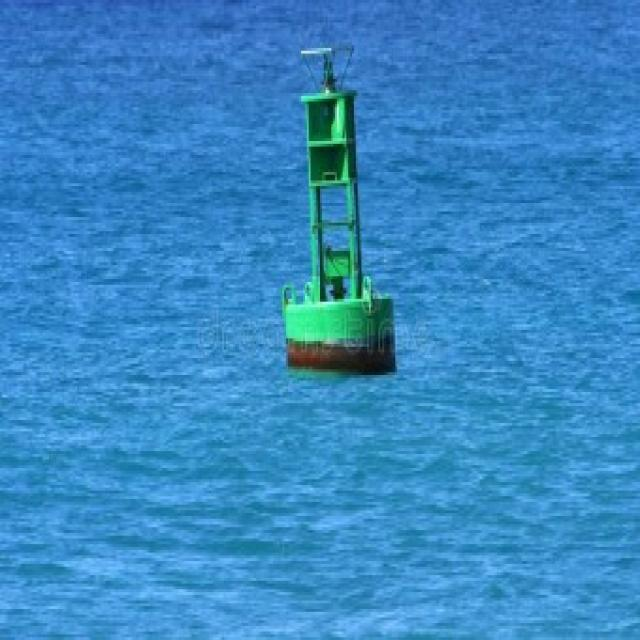buoy: (268, 31, 406, 377)
